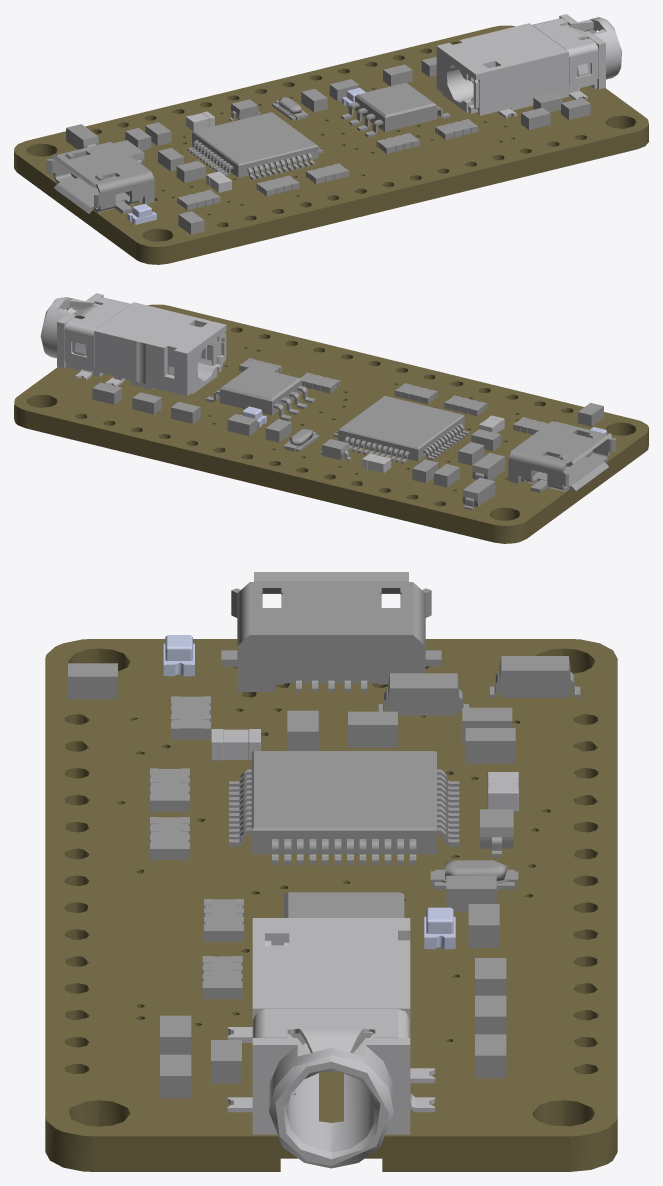
File: ada-2133.glb
3 renders of one model, top to bottom at view 1: azimuth 30°, elevation 25°; view 2: azimuth 150°, elevation 25°; view 3: azimuth 270°, elevation 25°, orthographic. The views are drawn at different scales.
Parts seen in each view (by area): view 1: 0.16666666666666666_0.16666666666666666_0.08333333333333333_, 0.3333333333333333_0.3333333333333333_0.3333333333333333_0, 0.5833333333333334_0.5833333333333334_0.5833333333333334_0.8, 0.5833333333333334_0.6666666666666666_0.8333333333333334_0; view 2: 0.16666666666666666_0.16666666666666666_0.08333333333333333_, 0.3333333333333333_0.3333333333333333_0.3333333333333333_0, 0.5833333333333334_0.5833333333333334_0.5833333333333334_0.8; view 3: 0.16666666666666666_0.16666666666666666_0.08333333333333333_, 0.3333333333333333_0.3333333333333333_0.3333333333333333_0, 0.5833333333333334_0.5833333333333334_0.5833333333333334_0.8, 0.5833333333333334_0.6666666666666666_0.8333333333333334_0.
Part boxes in pixels (x1,y1,x2,y2): 0.16666666666666666_0.16666666666666666_0.08333333333333333_: (14,25,648,264); 0.3333333333333333_0.3333333333333333_0.3333333333333333_0: (46,56,590,234); 0.5833333333333334_0.5833333333333334_0.5833333333333334_0.8: (186,14,621,192); 0.5833333333333334_0.6666666666666666_0.8333333333333334_0: (127,87,365,224); 0.16666666666666666_0.16666666666666666_0.08333333333333333_: (14,304,648,543); 0.3333333333333333_0.3333333333333333_0.3333333333333333_0: (92,358,616,509); 0.5833333333333334_0.5833333333333334_0.5833333333333334_0.8: (40,293,504,473); 0.16666666666666666_0.16666666666666666_0.08333333333333333_: (45,639,617,1171); 0.3333333333333333_0.3333333333333333_0.3333333333333333_0: (68,572,580,1098); 0.5833333333333334_0.5833333333333334_0.5833333333333334_0.8: (211,729,518,1168); 0.5833333333333334_0.6666666666666666_0.8333333333333334_0: (163,635,455,949).
Bounding box in the file's own units: 4.96 × 0.599 × 2.29.
